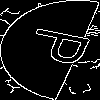P: (24, 25, 100, 70)
